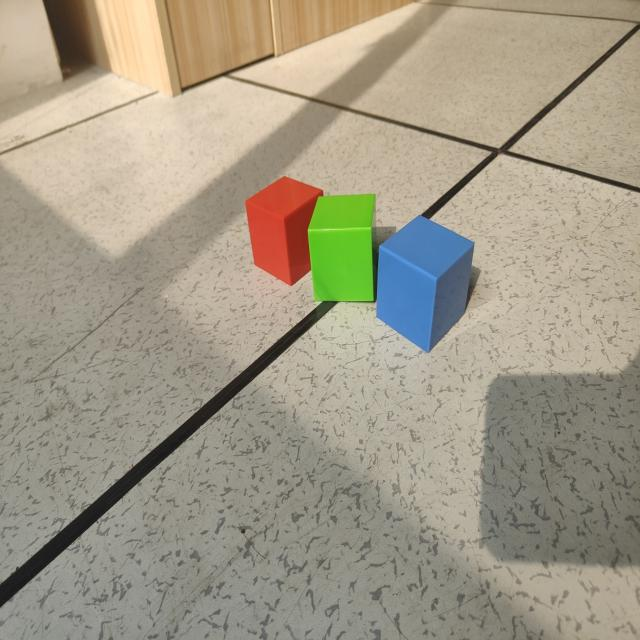blue: (376, 217, 476, 354)
green: (307, 194, 377, 305)
red: (245, 178, 325, 287)
